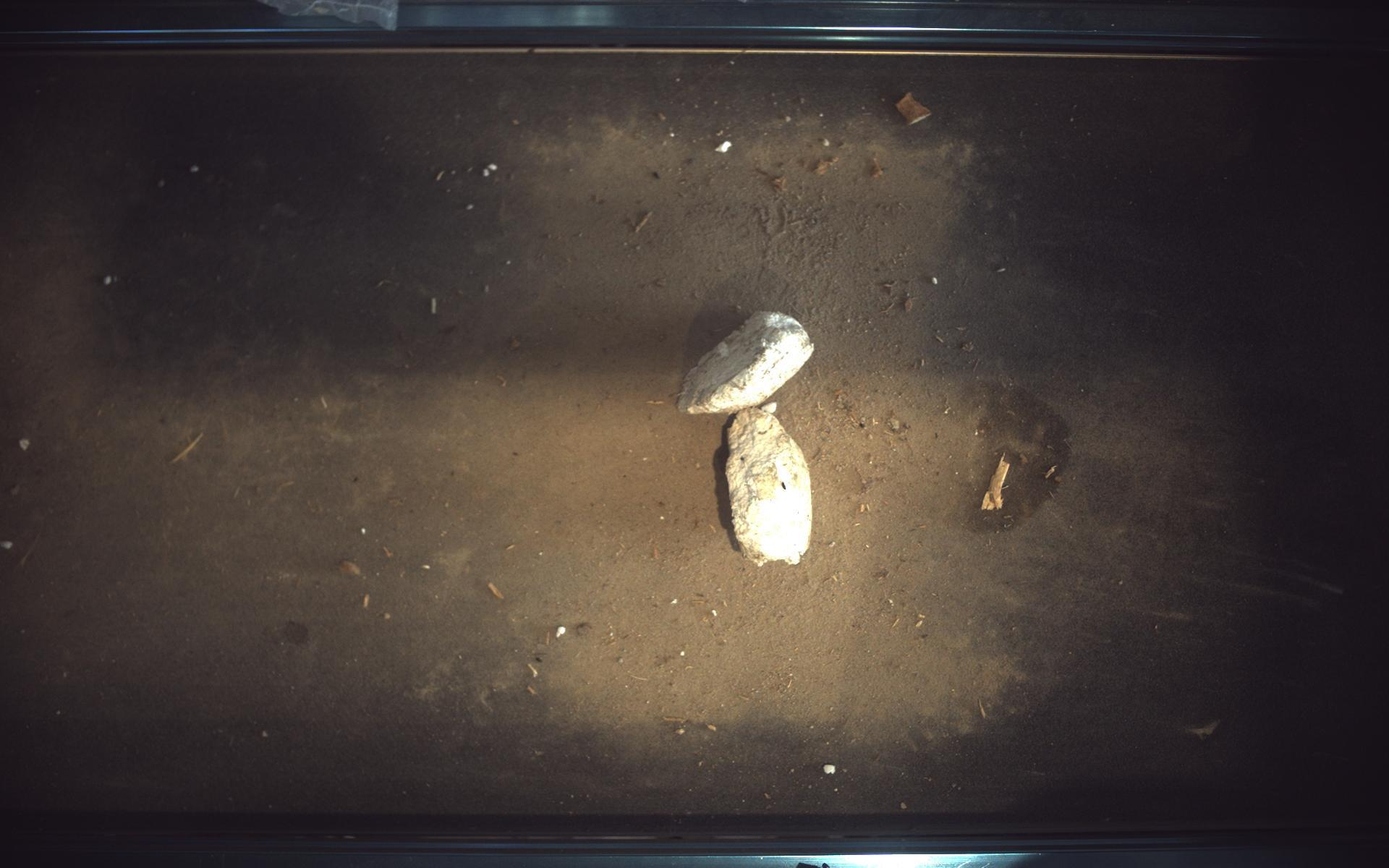foam: (679, 311, 815, 414), (727, 407, 813, 565)
